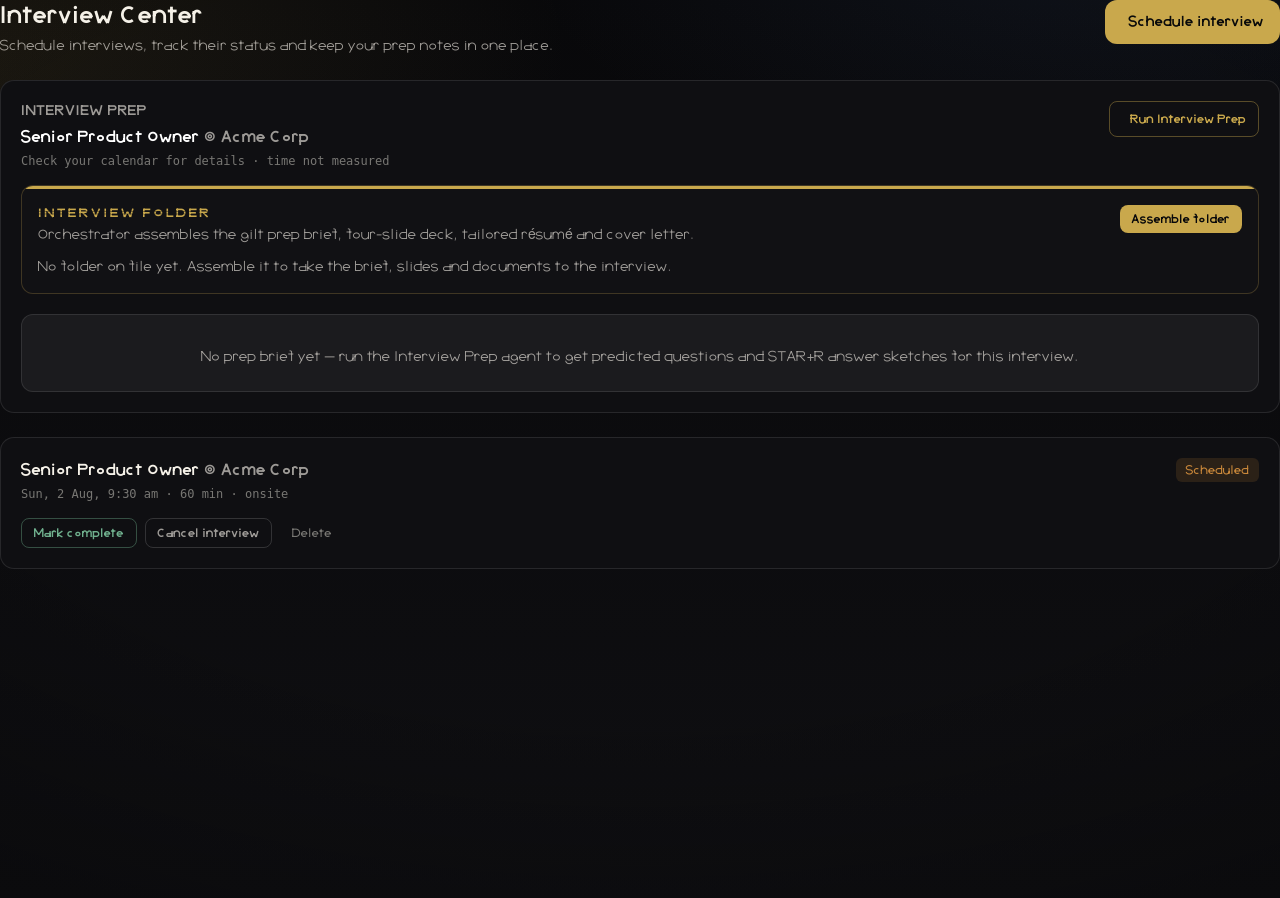
Interview Prep panel (ML-W4B-OBS-1) › Assemble folder POSTs the orchestrator pack endpoint
The image size is (1280, 898).
Expected: the text with test id "interview-pack-empty" is shown, [38,260,672,274]
Click the button with test id "interview-pack-assemble-btn" at (1181, 219), box [1120,205,1242,233]
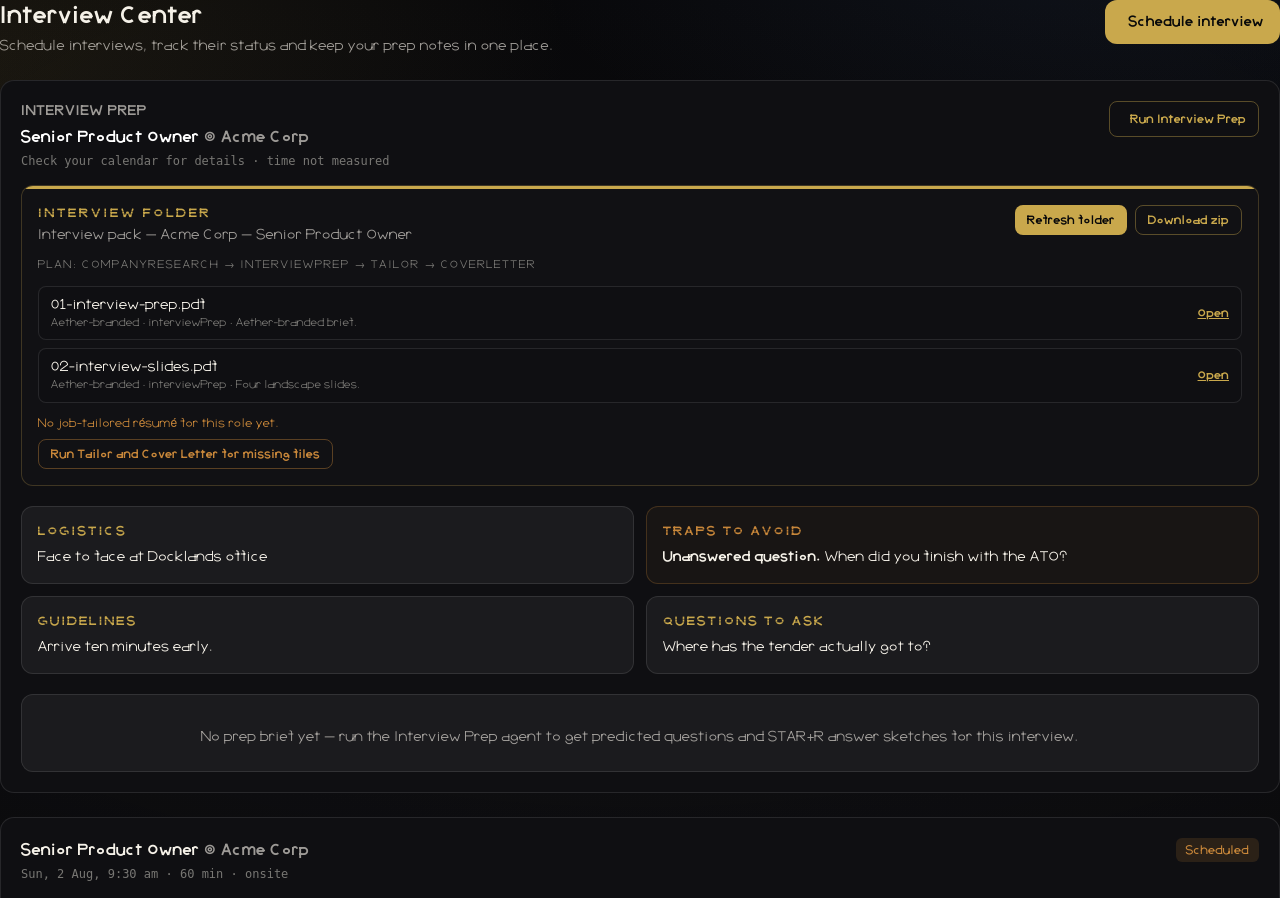
Expected: the list with test id "interview-pack-files" shows "01-interview-prep.pdf", [51,298,206,312]
